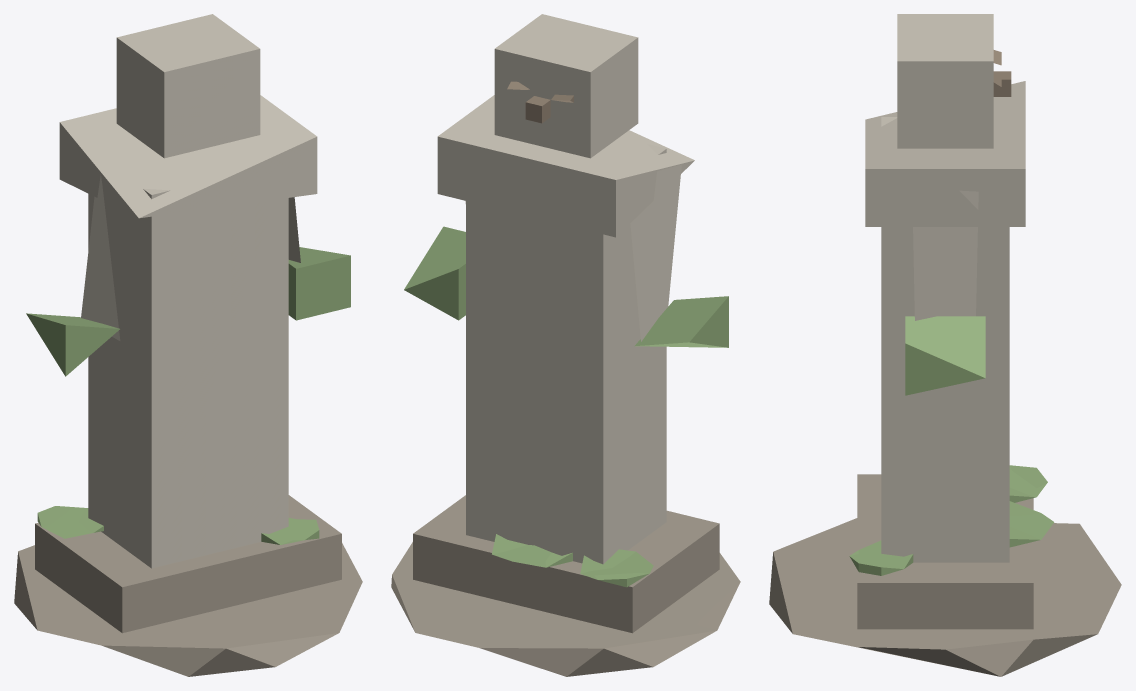
The model's file is 25-Ruinas-Templos_estatua_ancestral_erosionada.glb.
3 views of the same model, side by side, from view 1: azimuth 30°, elevation 25°; view 2: azimuth 150°, elevation 25°; view 3: azimuth 270°, elevation 25° (orthographic).
Visible parts, largest first — view 1: SM_Estatua_M_Estatua_Piedra, SM_Estatua_M_Estatua_Base, SM_Estatua_M_Estatua_Piedra_Osc, SM_Estatua_M_Estatua_Musgo; view 2: SM_Estatua_M_Estatua_Piedra, SM_Estatua_M_Estatua_Base, SM_Estatua_M_Estatua_Piedra_Osc, SM_Estatua_M_Estatua_Musgo, SM_Estatua_M_Estatua_Rasgo; view 3: SM_Estatua_M_Estatua_Piedra, SM_Estatua_M_Estatua_Base, SM_Estatua_M_Estatua_Piedra_Osc, SM_Estatua_M_Estatua_Musgo, SM_Estatua_M_Estatua_Rasgo.
Boxes of the visible parts, bbox=[...] form: SM_Estatua_M_Estatua_Piedra: bbox=[59, 14, 317, 568]; SM_Estatua_M_Estatua_Base: bbox=[14, 495, 362, 676]; SM_Estatua_M_Estatua_Piedra_Osc: bbox=[26, 247, 350, 376]; SM_Estatua_M_Estatua_Musgo: bbox=[37, 506, 319, 544]; SM_Estatua_M_Estatua_Piedra: bbox=[437, 14, 694, 564]; SM_Estatua_M_Estatua_Base: bbox=[391, 495, 740, 676]; SM_Estatua_M_Estatua_Piedra_Osc: bbox=[404, 226, 728, 347]; SM_Estatua_M_Estatua_Musgo: bbox=[492, 534, 653, 587]; SM_Estatua_M_Estatua_Rasgo: bbox=[507, 81, 573, 123]; SM_Estatua_M_Estatua_Piedra: bbox=[865, 14, 1025, 562]; SM_Estatua_M_Estatua_Base: bbox=[769, 474, 1121, 676]; SM_Estatua_M_Estatua_Piedra_Osc: bbox=[905, 316, 985, 395]; SM_Estatua_M_Estatua_Musgo: bbox=[849, 465, 1054, 575]; SM_Estatua_M_Estatua_Rasgo: bbox=[993, 50, 1011, 96].
Size of the model in its own units: 1.1 by 1.95 by 1.1.
